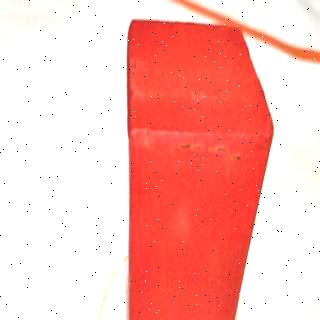redbox: (130, 23, 238, 320)
